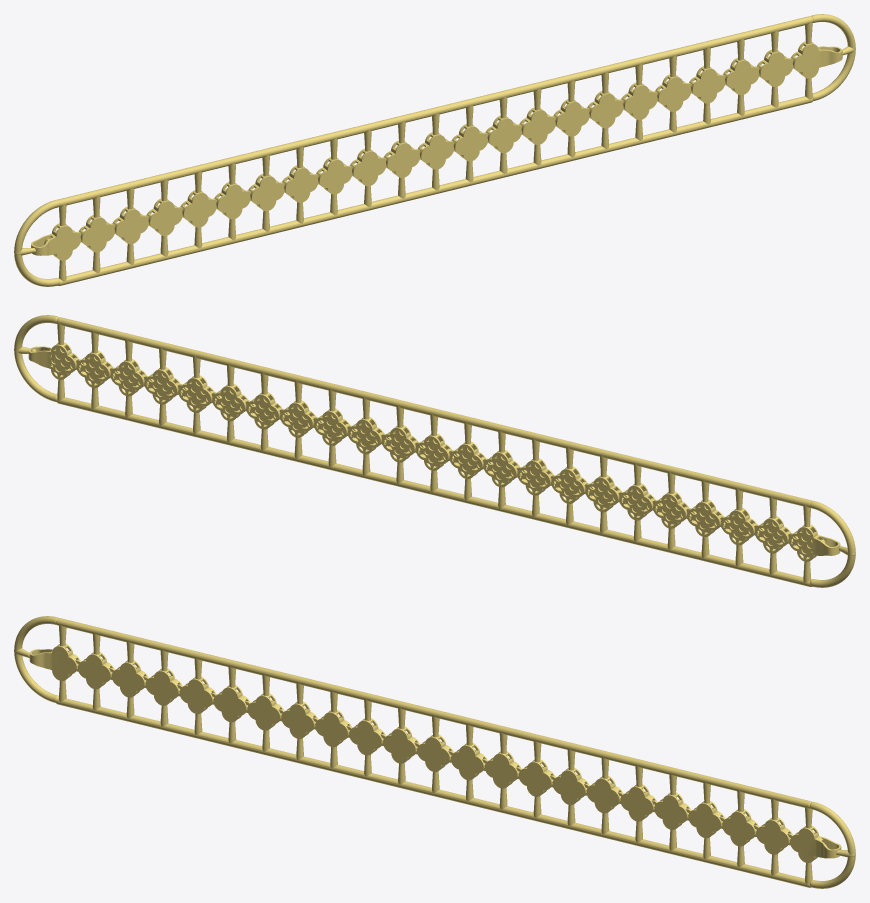
Rendered from yzn5-133_c.glb.
3 views of the same model, one above another, from view 1: azimuth 30°, elevation 25°; view 2: azimuth 150°, elevation 25°; view 3: azimuth 330°, elevation 25° (orthographic).
Visible parts, largest first — view 1: Renderer Node; view 2: Renderer Node; view 3: Renderer Node.
Boxes of the visible parts, left/top/right/bottom form: Renderer Node: left=14, top=14, right=855, bottom=286; Renderer Node: left=14, top=315, right=855, bottom=587; Renderer Node: left=14, top=616, right=855, bottom=888.
Size of the model in its own units: 185 by 18.16 by 3.34.
